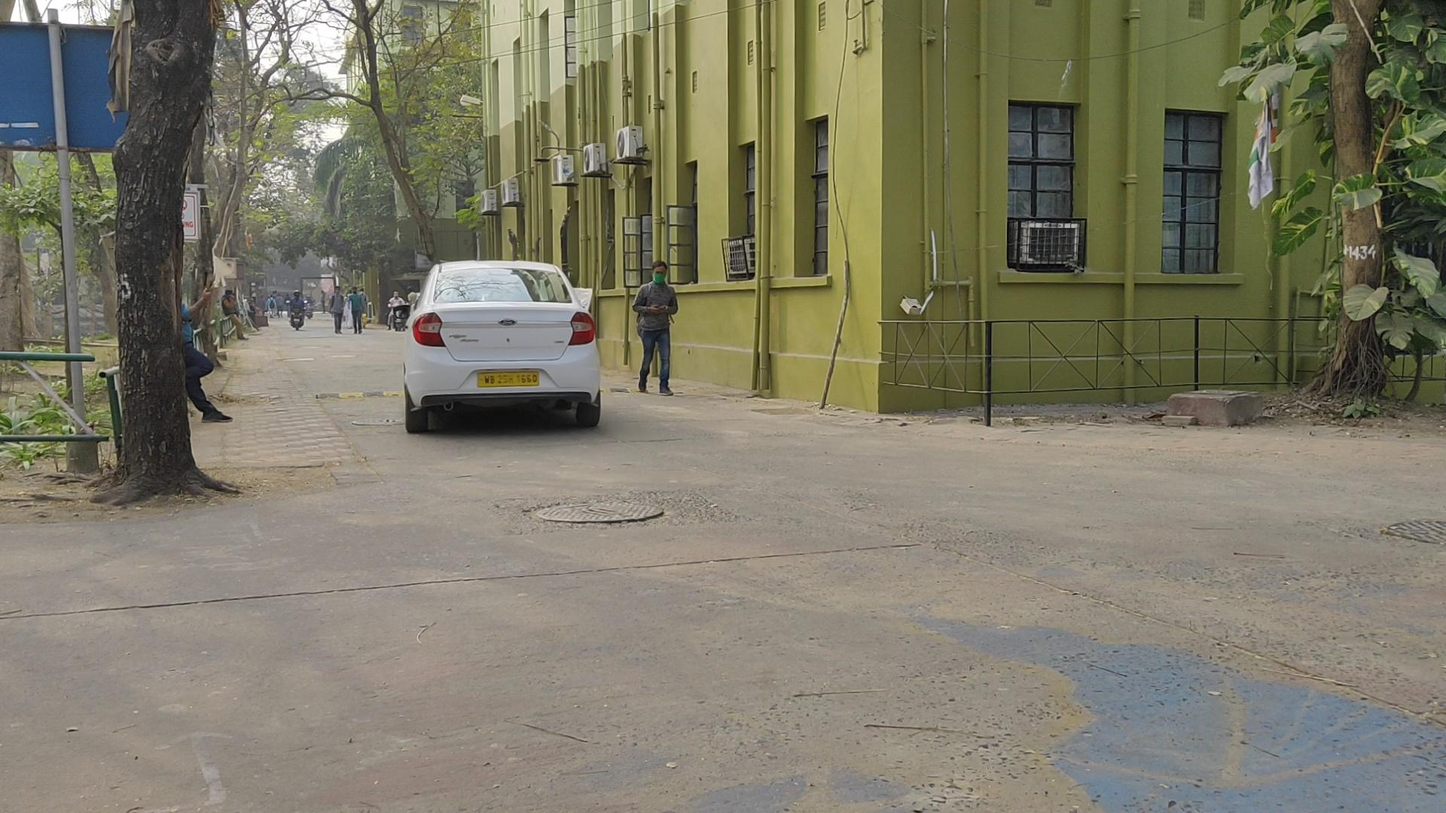car: (404, 261, 603, 438)
